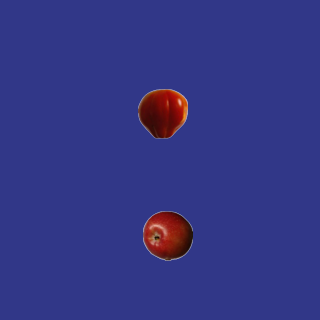Apple Braeburn: (142, 210, 192, 260)
Tomato 1: (137, 88, 187, 138)
